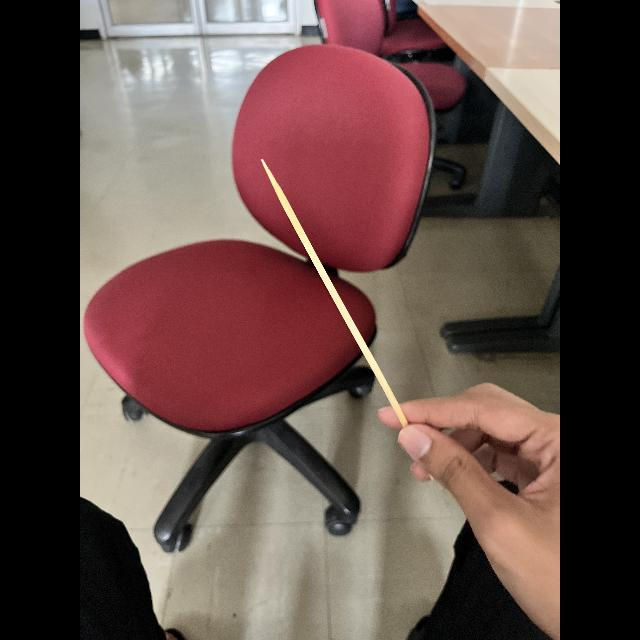stick: (254, 161, 411, 427)
